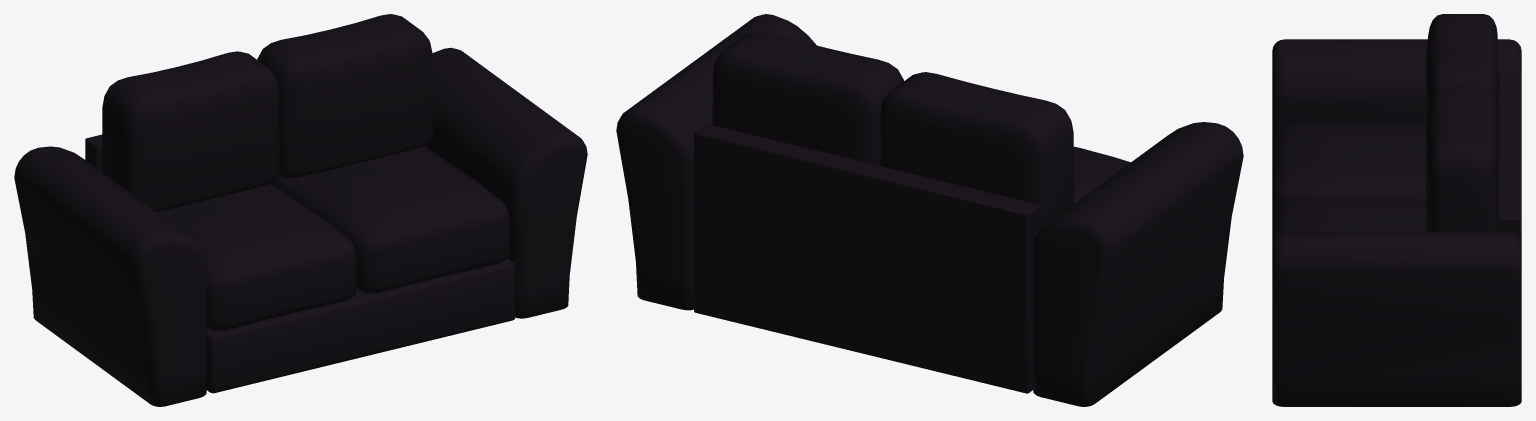
The model's file is Couch1.fbx.
3 renders of one model, left to right at view 1: azimuth 30°, elevation 25°; view 2: azimuth 150°, elevation 25°; view 3: azimuth 270°, elevation 25°, orthographic. The views are drawn at different scales.
Visible parts, largest first — view 1: Couch1; view 2: Couch1; view 3: Couch1.
Part boxes in pixels (left/top/right/bottom): Couch1: left=14, top=14, right=587, bottom=406; Couch1: left=616, top=14, right=1243, bottom=406; Couch1: left=1272, top=14, right=1521, bottom=406.
Size of the model in its own units: 2.42 by 1.18 by 1.17.
